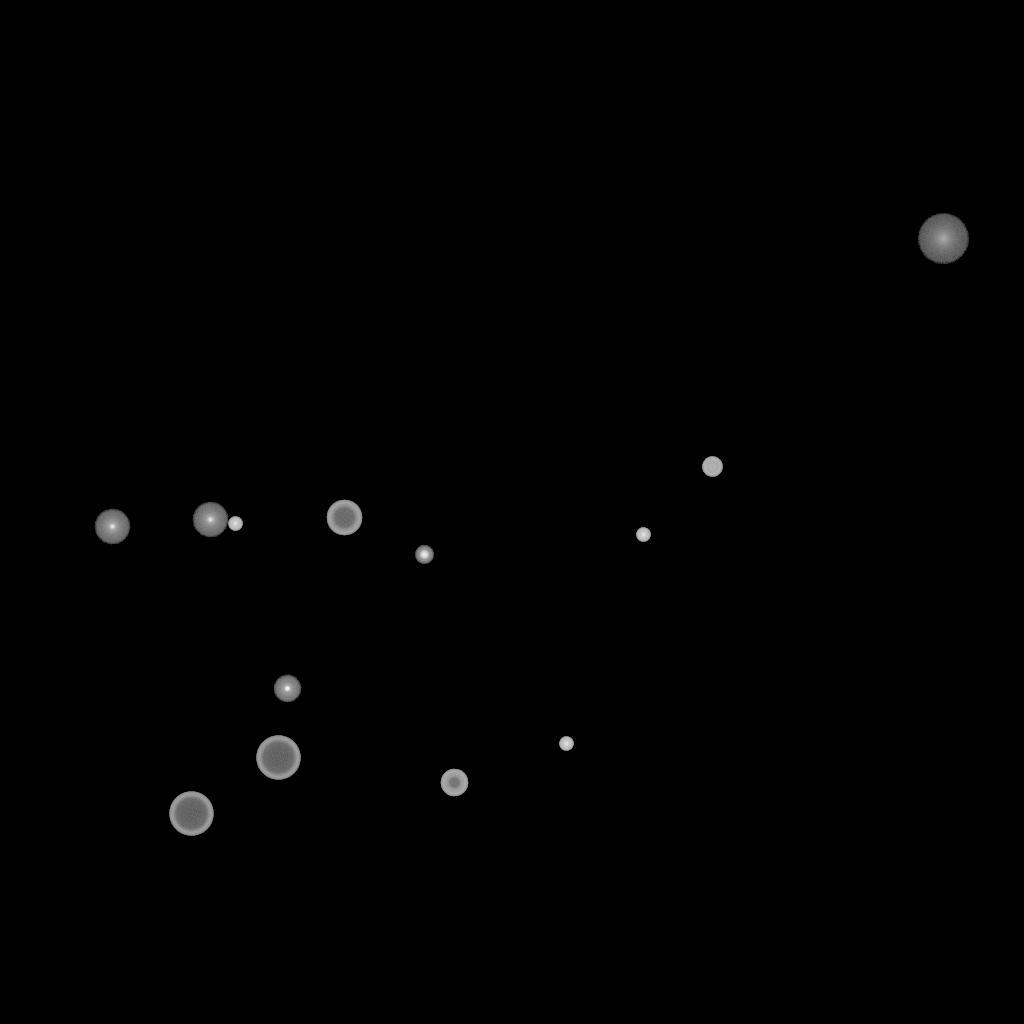depth:-10: (273, 675, 301, 703)
depth:-20: (415, 546, 433, 564)
depth:-30: (228, 517, 242, 531), (559, 737, 573, 751), (636, 528, 650, 542)
depth:-40: (702, 457, 722, 477)
depth:-50: (440, 769, 468, 797)
depth:-60: (326, 500, 362, 536)
depth:-70: (256, 736, 300, 780), (169, 792, 213, 836)
depth:0: (94, 509, 130, 545), (192, 502, 228, 538)
depth:20: (917, 214, 969, 264)
